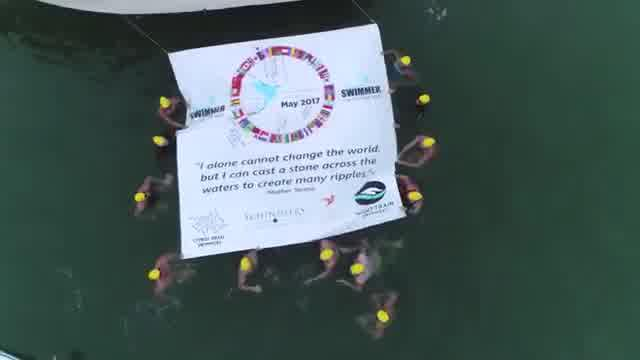human: (350, 289, 412, 340), (141, 254, 194, 301), (124, 176, 172, 222), (342, 241, 382, 290), (392, 134, 442, 173), (298, 242, 336, 288), (380, 47, 420, 90), (233, 246, 266, 294), (394, 174, 426, 218), (153, 97, 190, 126)
